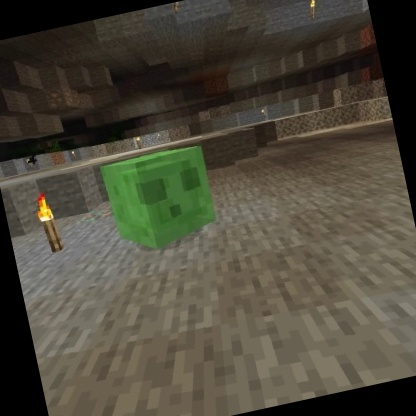slime: (95, 138, 227, 262)
